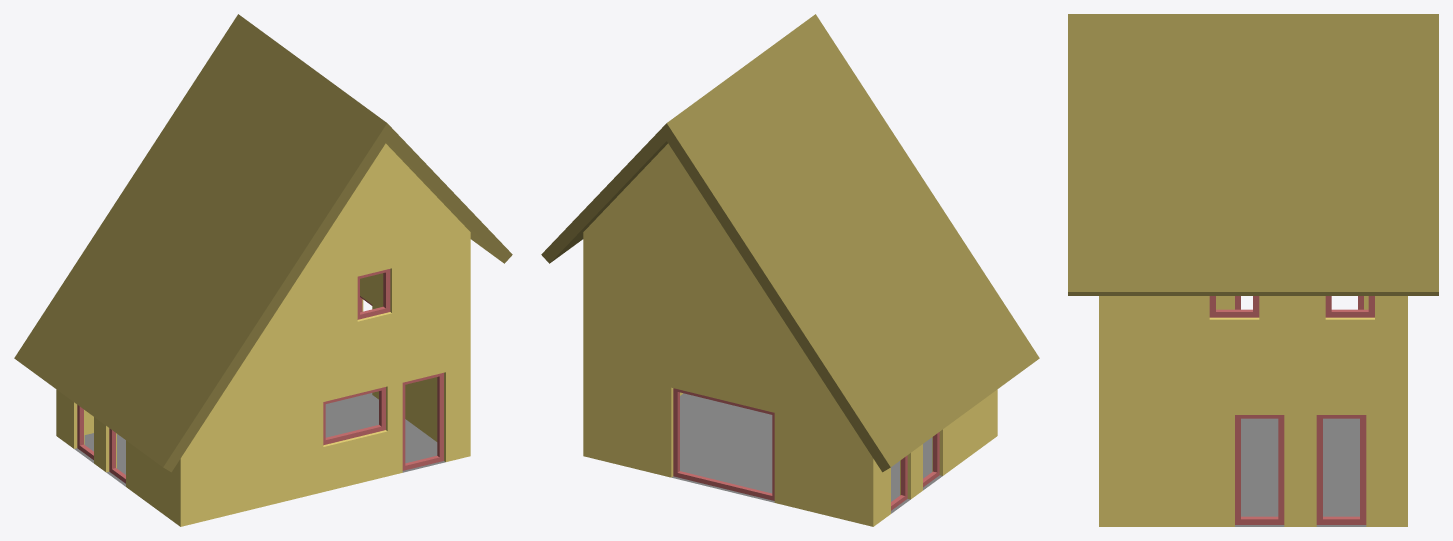
File: result.glb
3 renders of one model, left to right at view 1: azimuth 30°, elevation 25°; view 2: azimuth 150°, elevation 25°; view 3: azimuth 270°, elevation 25°, orthographic. The views are drawn at different scales.
Visible parts, largest first — view 1: 34bcf757-46d3-440d-af37-50643ed48d6f__undefined (×2), 795af5a2-f16b-4851-8249-ba11679c6bca__undefined, c851eff2-1b78-4b4b-b422-1fae5c15f7cf__Plane_12, ec32bfcf-a63a-461a-a9ec-381045232966__Box, 4f1944eb-691c-4df1-98c8-f3075cb791f4__Box_3, ed4b5117-ca89-4e54-acc3-4086c307f018__Box_6; view 2: 34bcf757-46d3-440d-af37-50643ed48d6f__undefined (×2), 795af5a2-f16b-4851-8249-ba11679c6bca__undefined, c851eff2-1b78-4b4b-b422-1fae5c15f7cf__Plane_12, 7ed95a3c-54aa-40ee-aeea-f3803397aa49__Box_9; view 3: 34bcf757-46d3-440d-af37-50643ed48d6f__undefined, 795af5a2-f16b-4851-8249-ba11679c6bca__undefined, c851eff2-1b78-4b4b-b422-1fae5c15f7cf__Plane_12, c2d24adf-827c-4cd2-ba7e-56197e7e704e__Box_27, a4504700-cd11-4322-80ba-24427cbee5d6__Box_24, 5992f1bc-5d17-402b-8797-49e27992e3d2__Box_30, 429f2514-f8db-437f-a601-097ca717fbd8__Box_33.
Boxes of the visible parts, x1=… form: 34bcf757-46d3-440d-af37-50643ed48d6f__undefined (×2): x1=14, y1=14, x2=512, y2=472; 795af5a2-f16b-4851-8249-ba11679c6bca__undefined: x1=56, y1=143, x2=470, y2=526; c851eff2-1b78-4b4b-b422-1fae5c15f7cf__Plane_12: x1=74, y1=393, x2=445, y2=486; ec32bfcf-a63a-461a-a9ec-381045232966__Box: x1=402, y1=372, x2=443, y2=470; 4f1944eb-691c-4df1-98c8-f3075cb791f4__Box_3: x1=323, y1=387, x2=385, y2=445; ed4b5117-ca89-4e54-acc3-4086c307f018__Box_6: x1=357, y1=269, x2=390, y2=319; 34bcf757-46d3-440d-af37-50643ed48d6f__undefined (×2): x1=541, y1=14, x2=1039, y2=472; 795af5a2-f16b-4851-8249-ba11679c6bca__undefined: x1=583, y1=143, x2=997, y2=526; c851eff2-1b78-4b4b-b422-1fae5c15f7cf__Plane_12: x1=672, y1=393, x2=942, y2=513; 7ed95a3c-54aa-40ee-aeea-f3803397aa49__Box_9: x1=673, y1=388, x2=774, y2=500; 34bcf757-46d3-440d-af37-50643ed48d6f__undefined: x1=1068, y1=14, x2=1438, y2=295; 795af5a2-f16b-4851-8249-ba11679c6bca__undefined: x1=1099, y1=296, x2=1407, y2=526; c851eff2-1b78-4b4b-b422-1fae5c15f7cf__Plane_12: x1=1235, y1=418, x2=1366, y2=526; c2d24adf-827c-4cd2-ba7e-56197e7e704e__Box_27: x1=1316, y1=415, x2=1366, y2=524; a4504700-cd11-4322-80ba-24427cbee5d6__Box_24: x1=1235, y1=415, x2=1284, y2=524; 5992f1bc-5d17-402b-8797-49e27992e3d2__Box_30: x1=1209, y1=296, x2=1259, y2=317; 429f2514-f8db-437f-a601-097ca717fbd8__Box_33: x1=1325, y1=296, x2=1374, y2=317.
Bounding box in the file's own units: 813 × 812 × 600.
